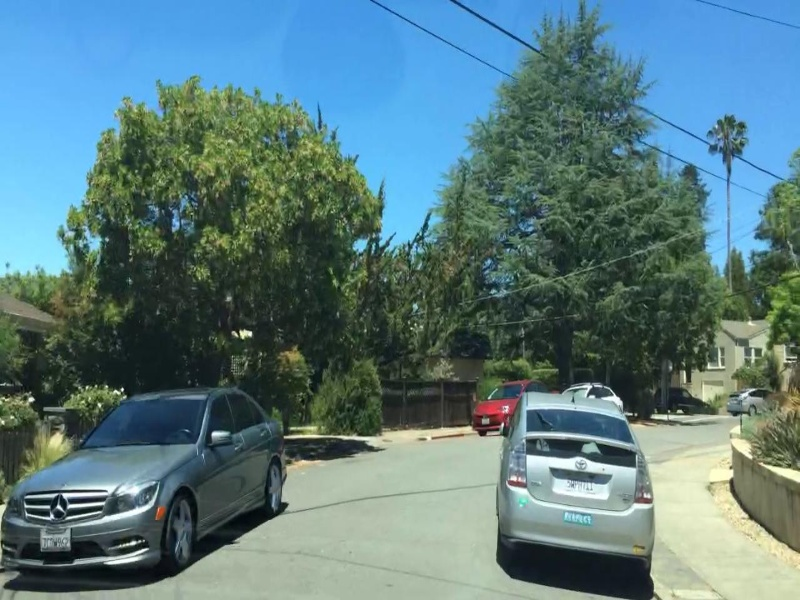car: (1, 368, 308, 596), (495, 383, 663, 593), (467, 367, 549, 434), (723, 379, 787, 414), (646, 380, 713, 411), (572, 373, 628, 410)
